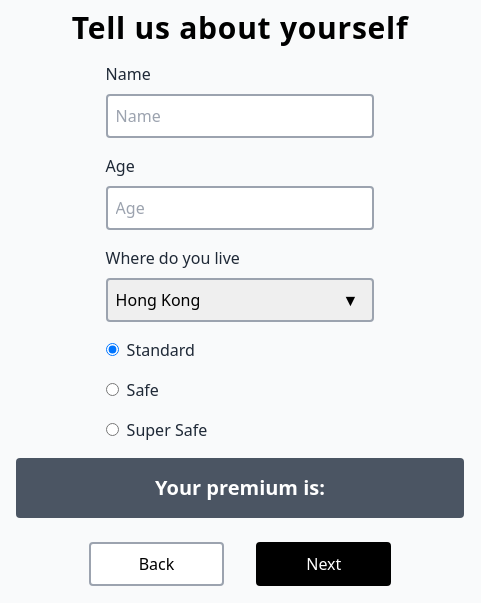
Test: SecondPage › is able to calculate price based on country
In the number field with placeholder "Age": [240, 208] box 106,186 -> 374,230, type "10"
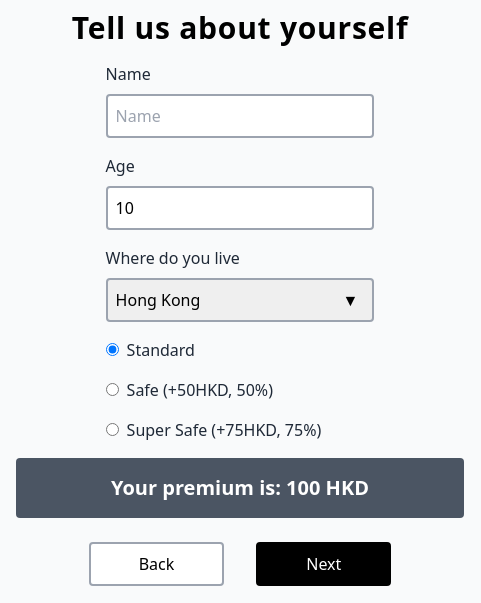
Select "Hong Kong" in the dropdown: [240, 300] box 106,278 -> 374,322
Check: the element with test id "final-price" shows "100 HKD", box 286,474 -> 369,501
Select "United States" in the dropdown: [240, 300] box 106,278 -> 374,322
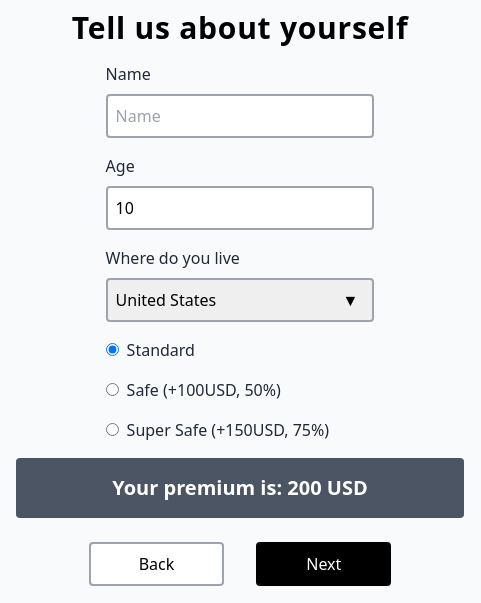
Check: the element with test id "final-price" shows "200 USD", box 287,474 -> 368,501
Select "Australia" in the dropdown: [240, 300] box 106,278 -> 374,322
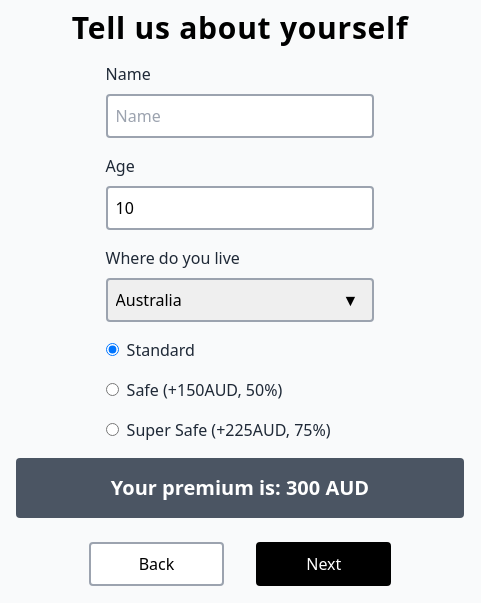
Check: the element with test id "final-price" shows "300 AUD", box 286,474 -> 369,501
